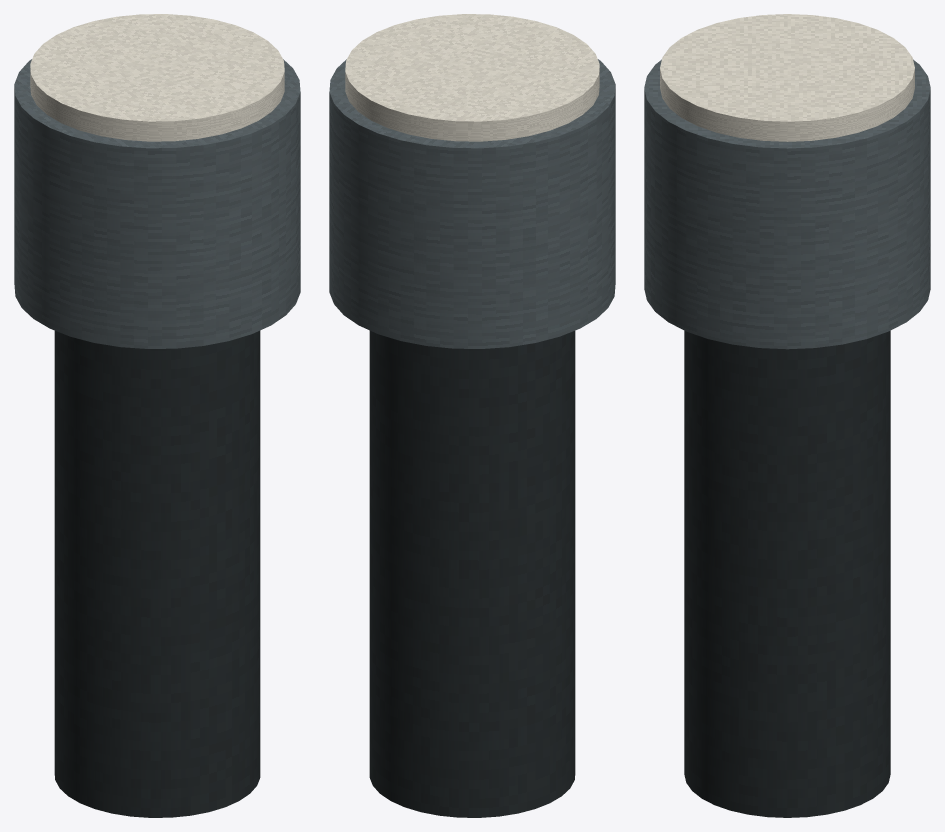
Rendered from torch.glb.
3 renders of one model, left to right at view 1: azimuth 30°, elevation 25°; view 2: azimuth 150°, elevation 25°; view 3: azimuth 270°, elevation 25°, orthographic.
Visible parts, largest first — view 1: case, rim, lens; view 2: case, rim, lens; view 3: case, rim, lens.
Part boxes in pixels (left/top/right/bottom): case: left=54, top=330, right=260, bottom=817; rim: left=14, top=59, right=300, bottom=348; lens: left=30, top=14, right=284, bottom=141; case: left=369, top=330, right=575, bottom=817; rim: left=329, top=59, right=615, bottom=348; lens: left=345, top=14, right=599, bottom=141; case: left=684, top=330, right=890, bottom=817; rim: left=644, top=59, right=930, bottom=349; lens: left=660, top=14, right=914, bottom=141.
Size of the model in its own units: 0.055 by 0.1496 by 0.055.
Materials: 3 (3 with a texture image).
